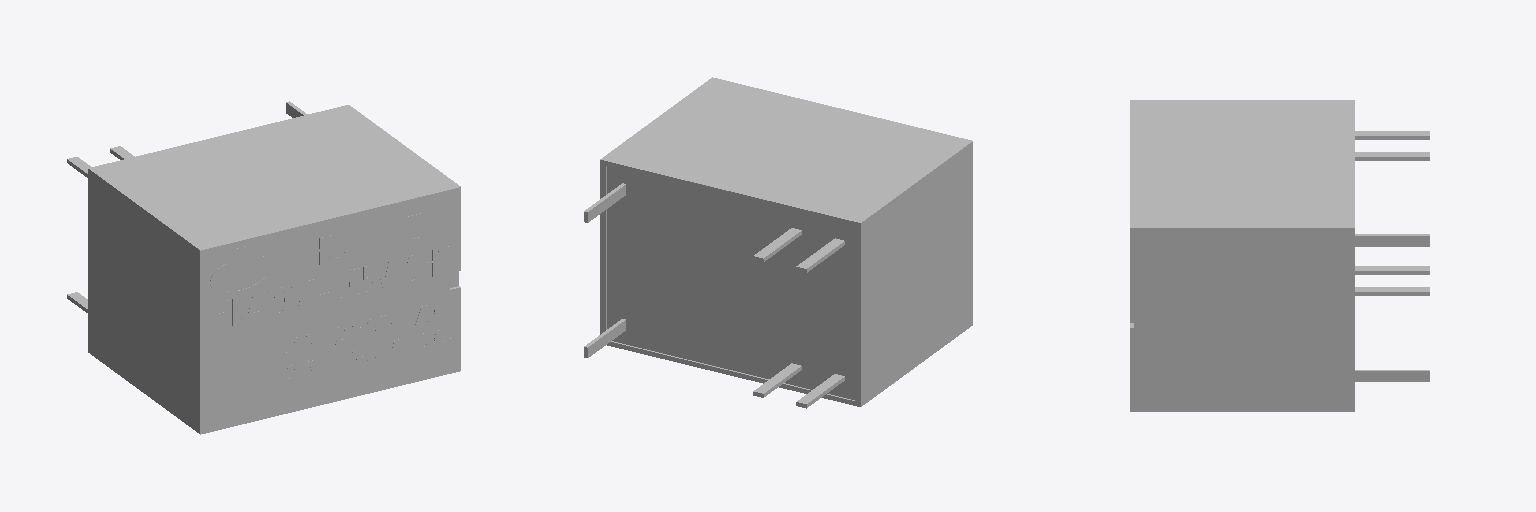
The model's file is Relay -HK4100F-DC5V-SHG.obj.
3 renders of one model, left to right at view 1: azimuth 30°, elevation 25°; view 2: azimuth 150°, elevation 25°; view 3: azimuth 270°, elevation 25°, orthographic.
Parts seen in each view (by area): view 1: Solid1; view 2: Solid1; view 3: Solid1.
Boxes of the visible parts, <box> form: Solid1: <box>67,101,460,434</box>; Solid1: <box>584,77,972,408</box>; Solid1: <box>1130,100,1429,411</box>.
Size of the model in its own units: 15.37 by 10.36 by 15.34.